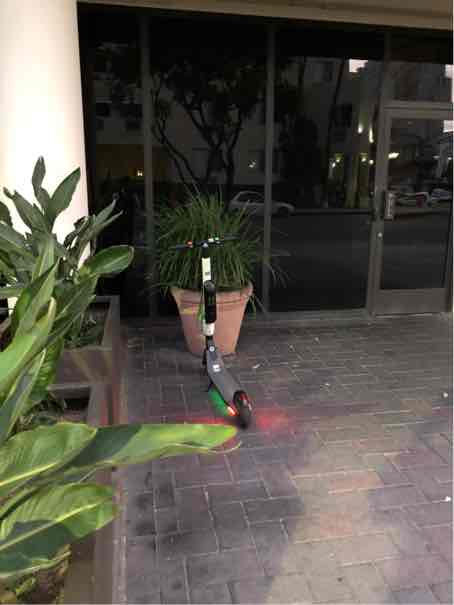scooter: (162, 225, 264, 432)
